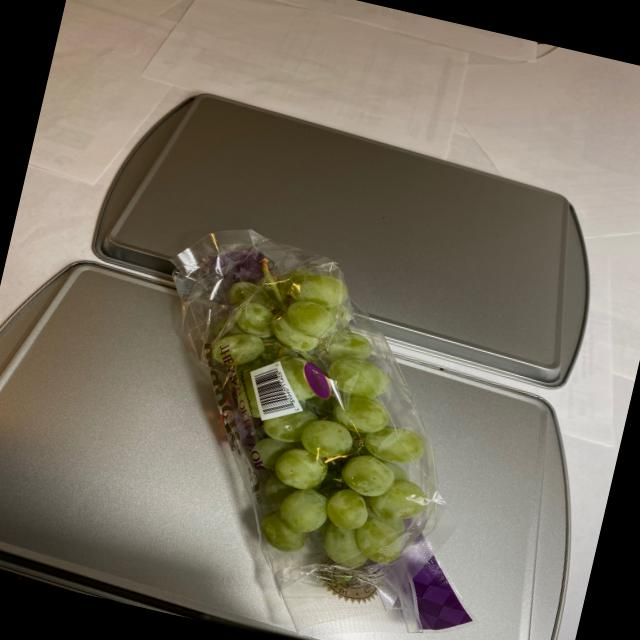grapes: (146, 242, 478, 598)
